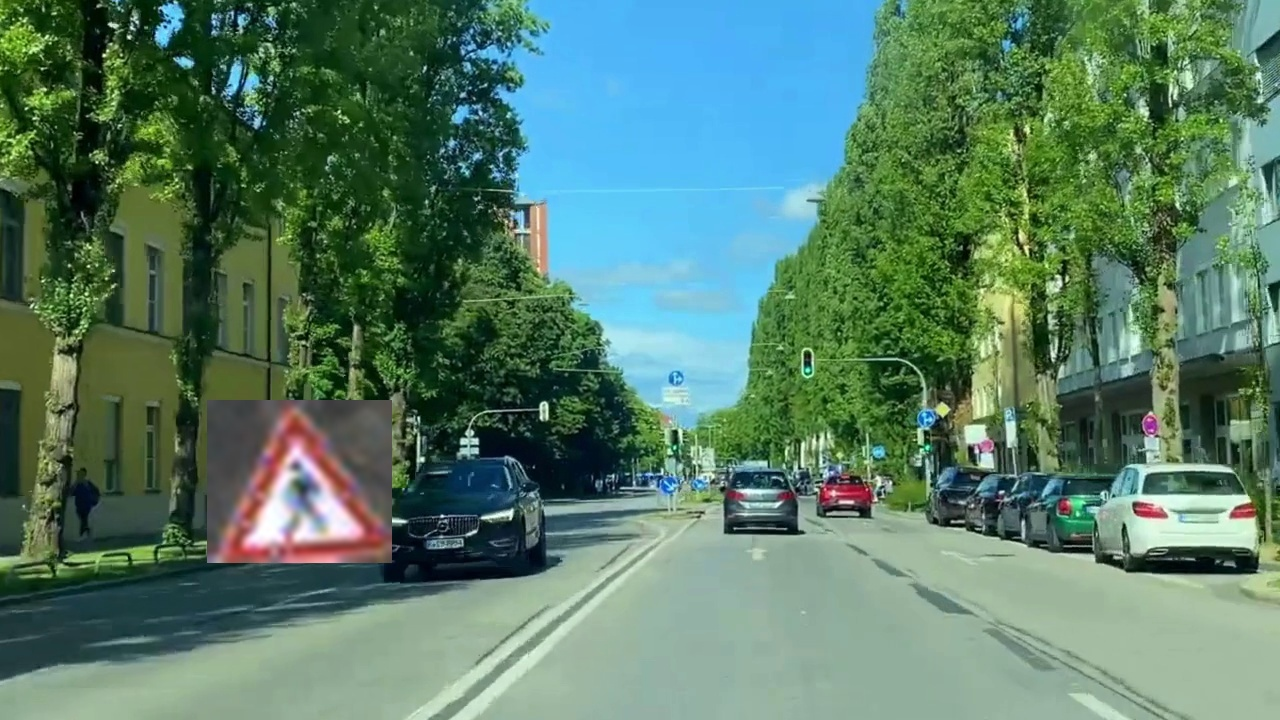Pedestrians: (207, 400, 392, 563)
